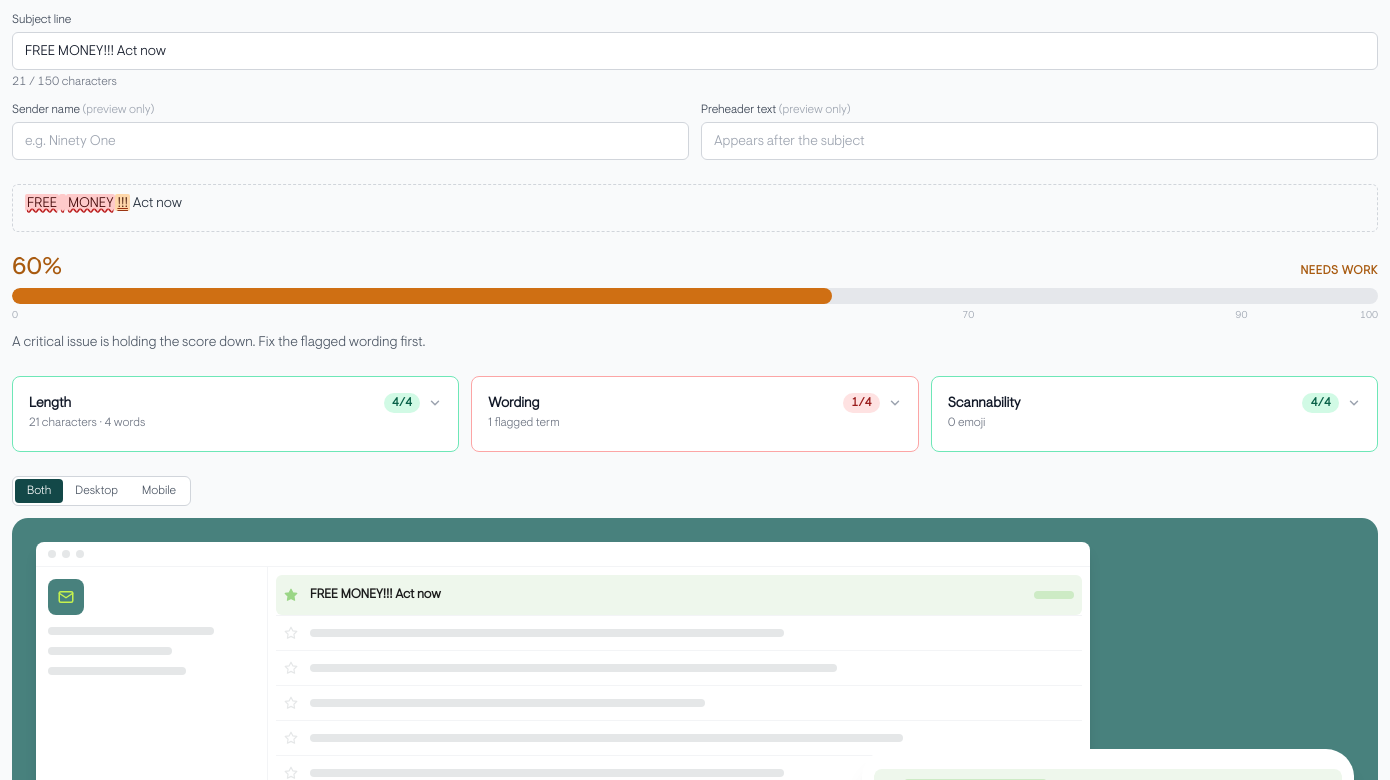
category cards (AC-12) › shows passed/4, the key metric line and an expandable checklist with reason and tip
expect the text "1/4" is shown: met, box [843,393,880,413]
expect the text "1 flagged term" is shown: met, box [488,415,560,435]
Click the button "Wording 1 flagged term 1/4" at (514, 402), box [472,377,918,451]
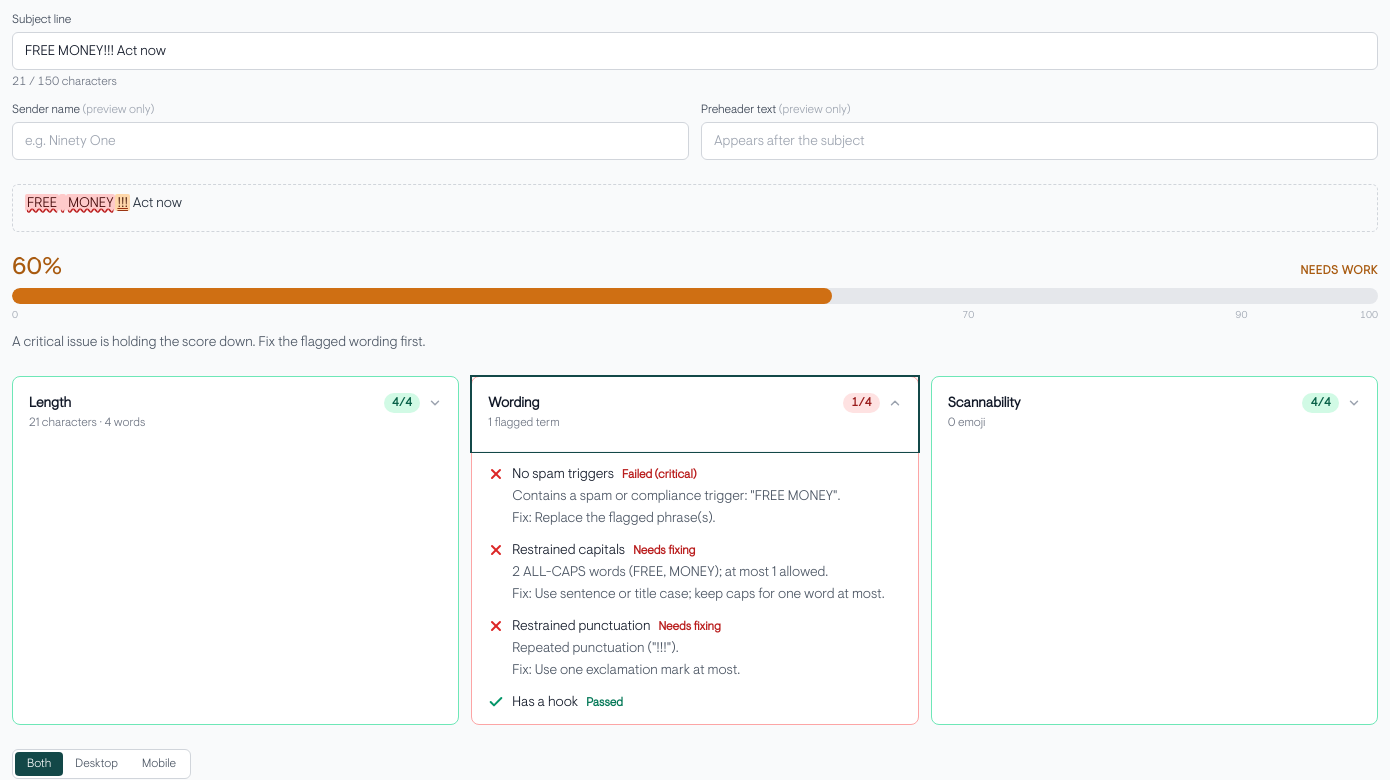
expect the button "Wording 1 flagged term 1/4" is expanded: met, box [472,377,918,451]
expect the text "Contains a spam or compliance trigger: \"FREE MONEY\"." is shown: met, box [512,486,840,506]
expect the text "Fix:" next to "Replace the flagged phrase(s)." is shown: met, box [512,509,532,526]
